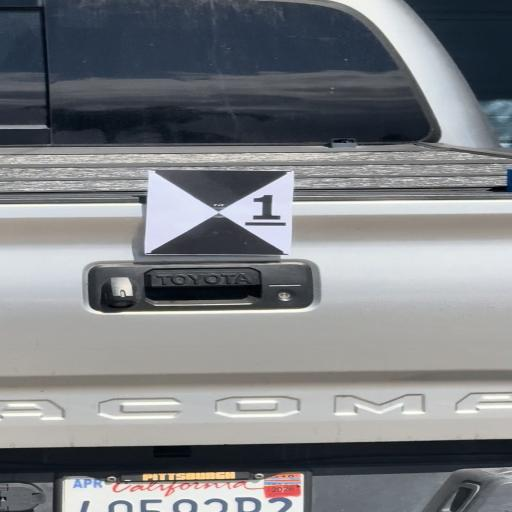target1: (150, 170, 288, 253)
